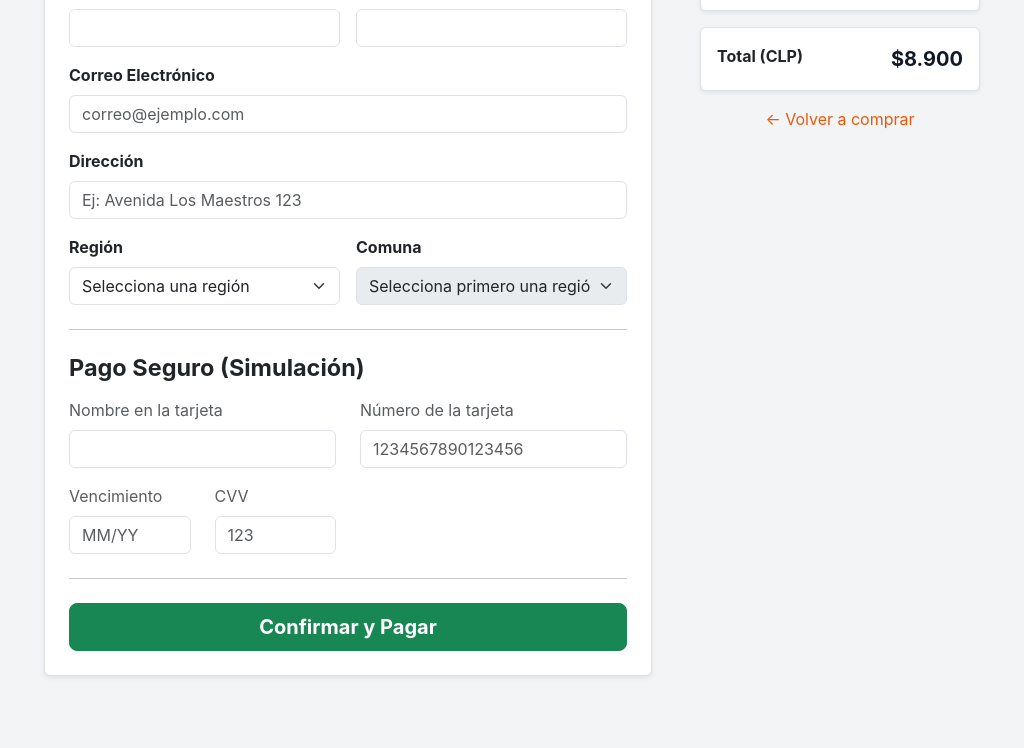
Scenario: aplica la clase is-invalid de Bootstrap en los inputs del Checkout al enviar vacío
(page scrolled)
Click the button "Confirmar y Pagar": [348, 627] box left=69, top=603, right=627, bottom=651
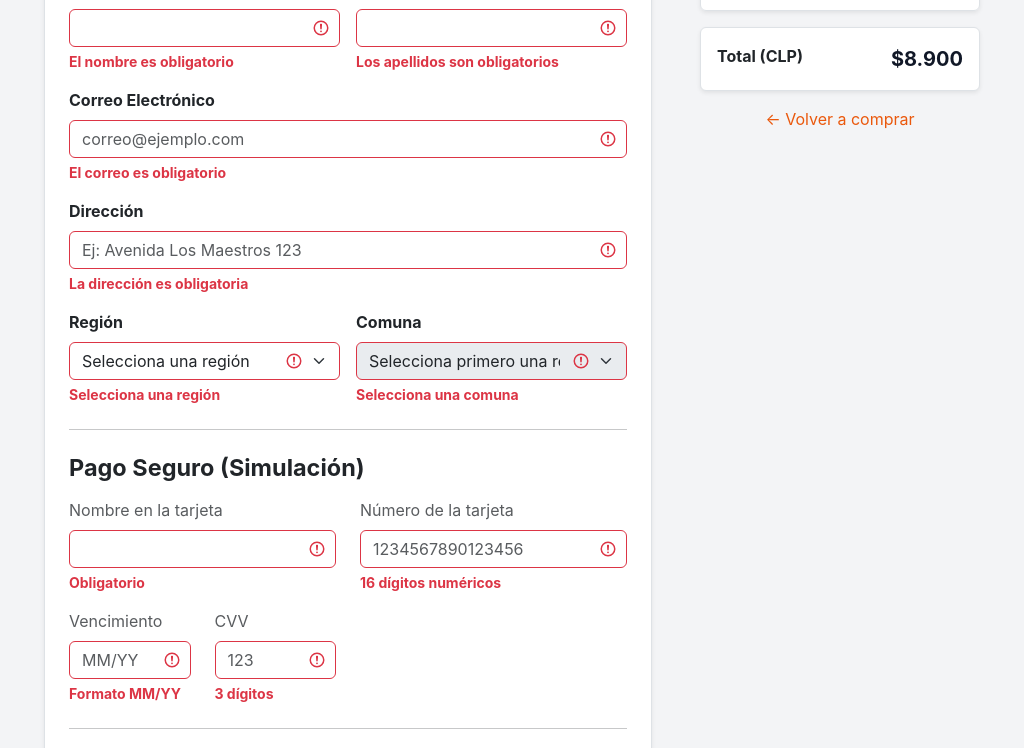
Expected: the text "El nombre es obligatorio" is shown, left=69, top=53, right=234, bottom=70
